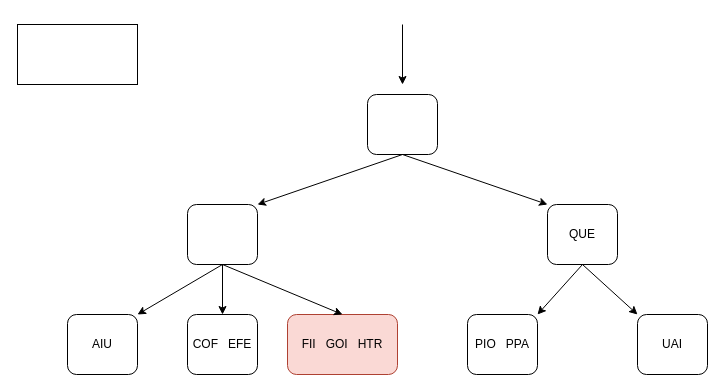
This 725x392 diagram has some shape labels left out. Each missing label, with the centre of its shape:
"CAI FEI" belongs at pixel 222 234.
"LUC" belongs at pixel 402 124.
"REMOVER LOI" belongs at pixel 77 54.
